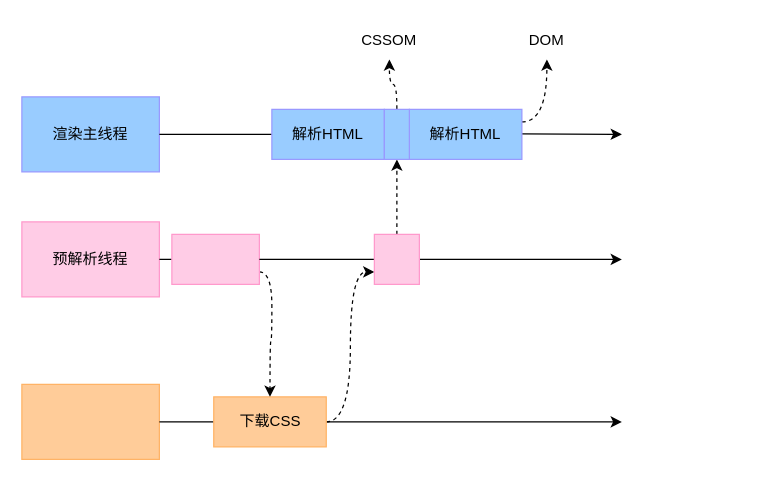
Image size: 768x481. Some labels were removed from this diagram. Here are the shapes that lost their labels. From the top down, the centre of each, then its label:
[215,258]: 快速浏览
[396,258]: 解析
[90,421]: 网络线程
